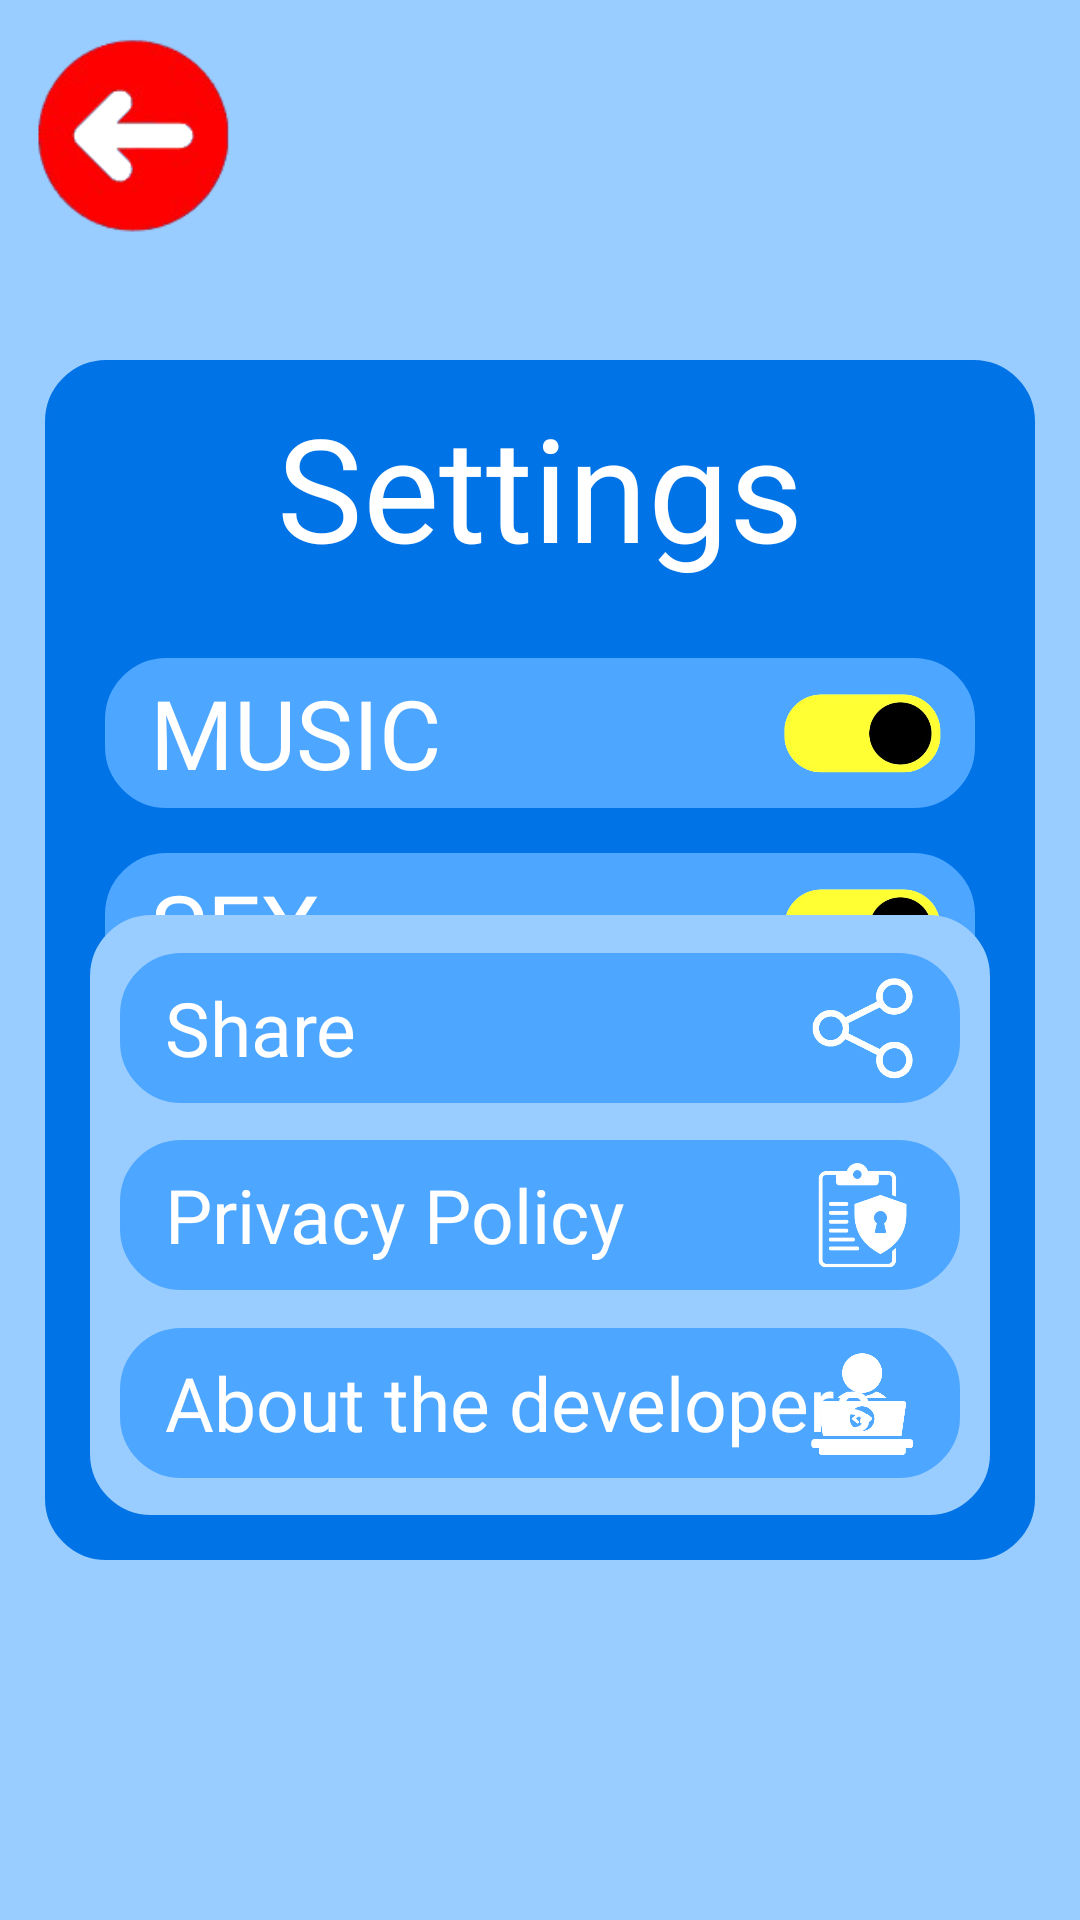

Icon bounding boxes for this 1080px×1920px phone screenshot, format box(x1, y1, x2, y2):
dev: box(811, 1353, 913, 1455)
game back: box(38, 40, 229, 232)
